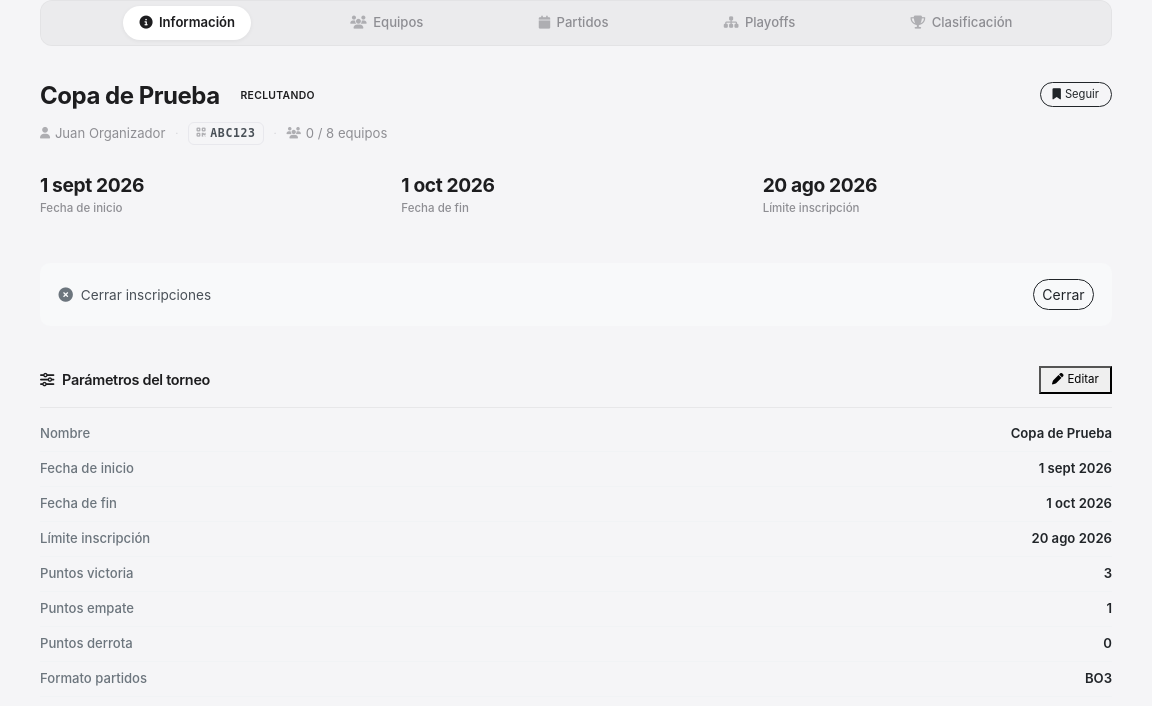
TournamentDetail › cierra las inscripciones y muestra el mensaje de exito
The image size is (1152, 706).
Step 1. Click the button "Cerrar" → (1063, 295), box [1033, 279, 1094, 310]
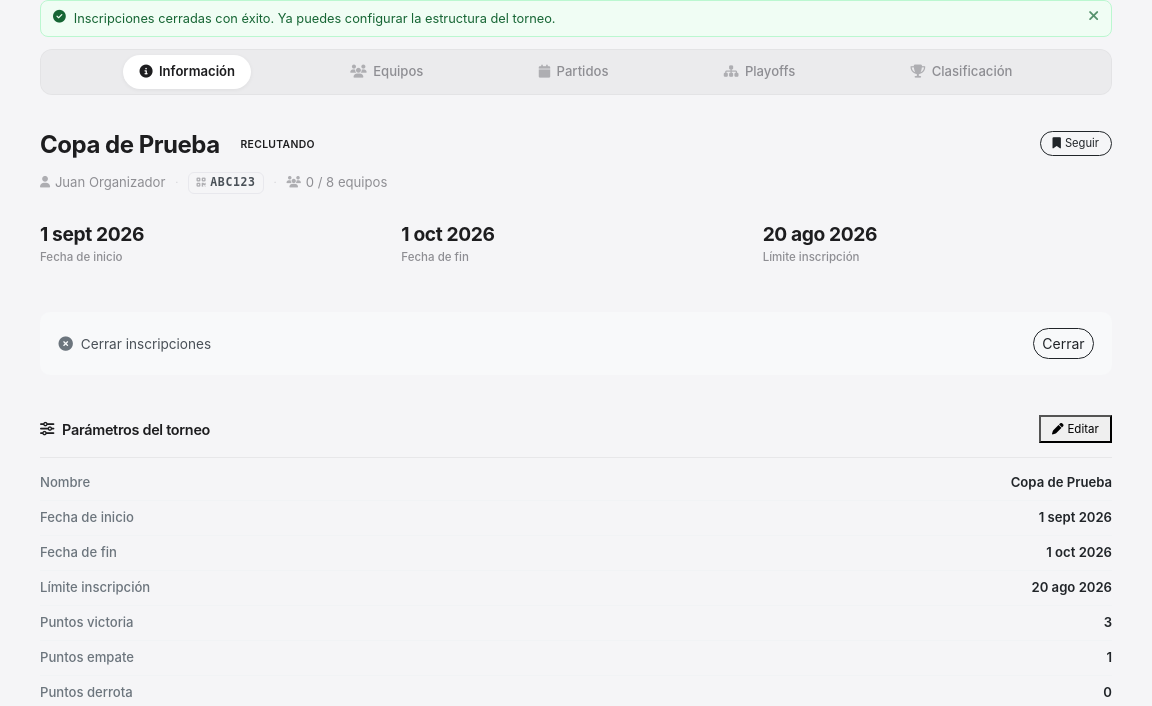
expect the text "Inscripciones cerradas con éxito. Ya puedes configurar la estructura del torneo." is shown: met, box [74, 11, 556, 26]
